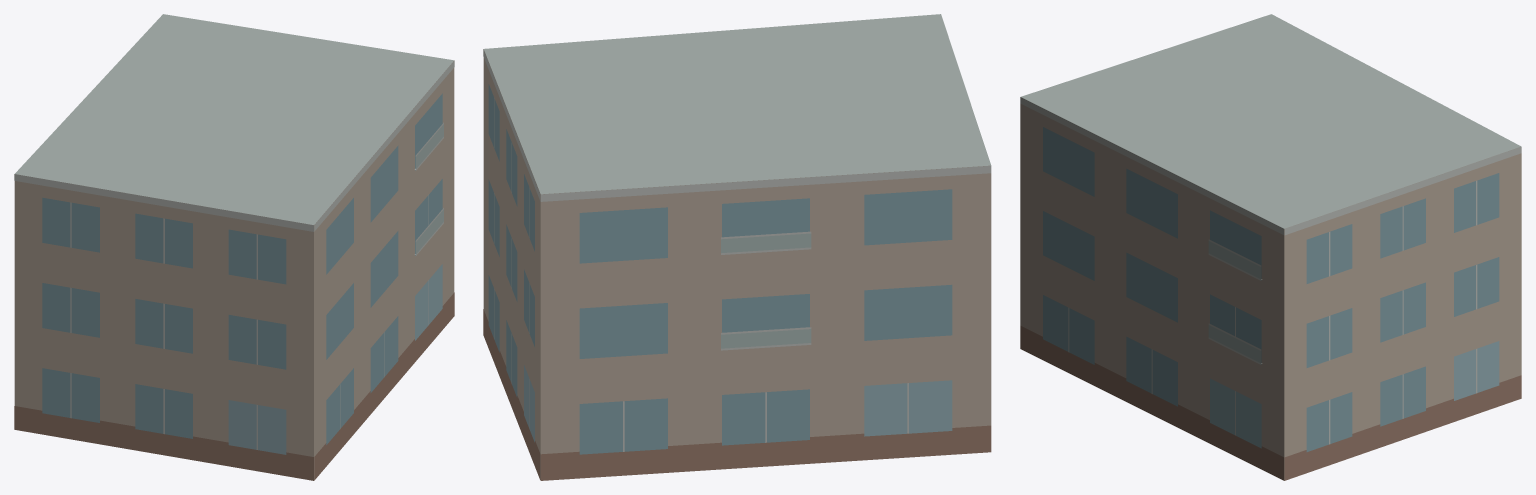
Rendered from survey-upis-32931683.glb.
3 renders of one model, left to right at view 1: azimuth 30°, elevation 25°; view 2: azimuth 150°, elevation 25°; view 3: azimuth 270°, elevation 25°, orthographic. The views are drawn at different scales.
Parts seen in each view (by area): view 1: survey-upis-32931683.tmp; view 2: survey-upis-32931683.tmp; view 3: survey-upis-32931683.tmp.
Part boxes in pixels (left/top/right/bottom): survey-upis-32931683.tmp: left=14, top=14, right=454, bottom=480; survey-upis-32931683.tmp: left=483, top=14, right=991, bottom=480; survey-upis-32931683.tmp: left=1020, top=14, right=1521, bottom=480.
Bounding box in the file's own units: 16.73 × 9.15 × 16.49.
